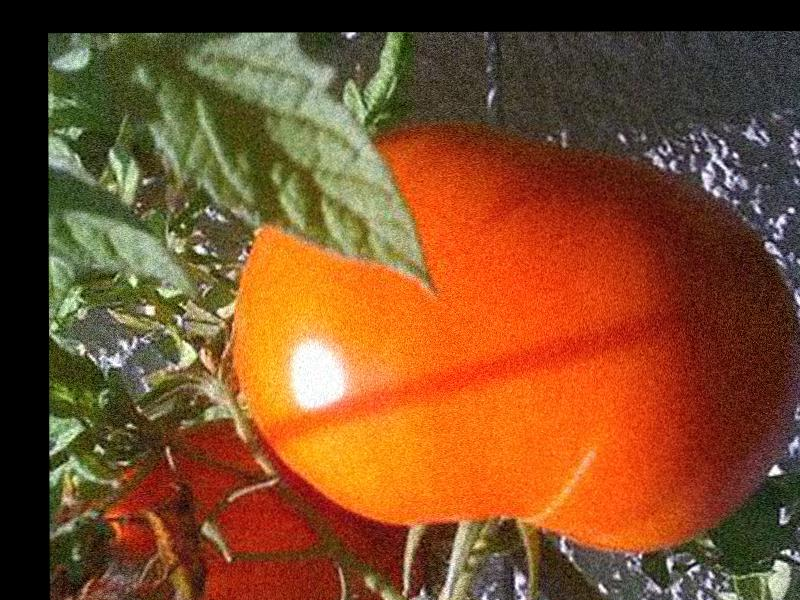Tomato: (230, 125, 800, 554)
